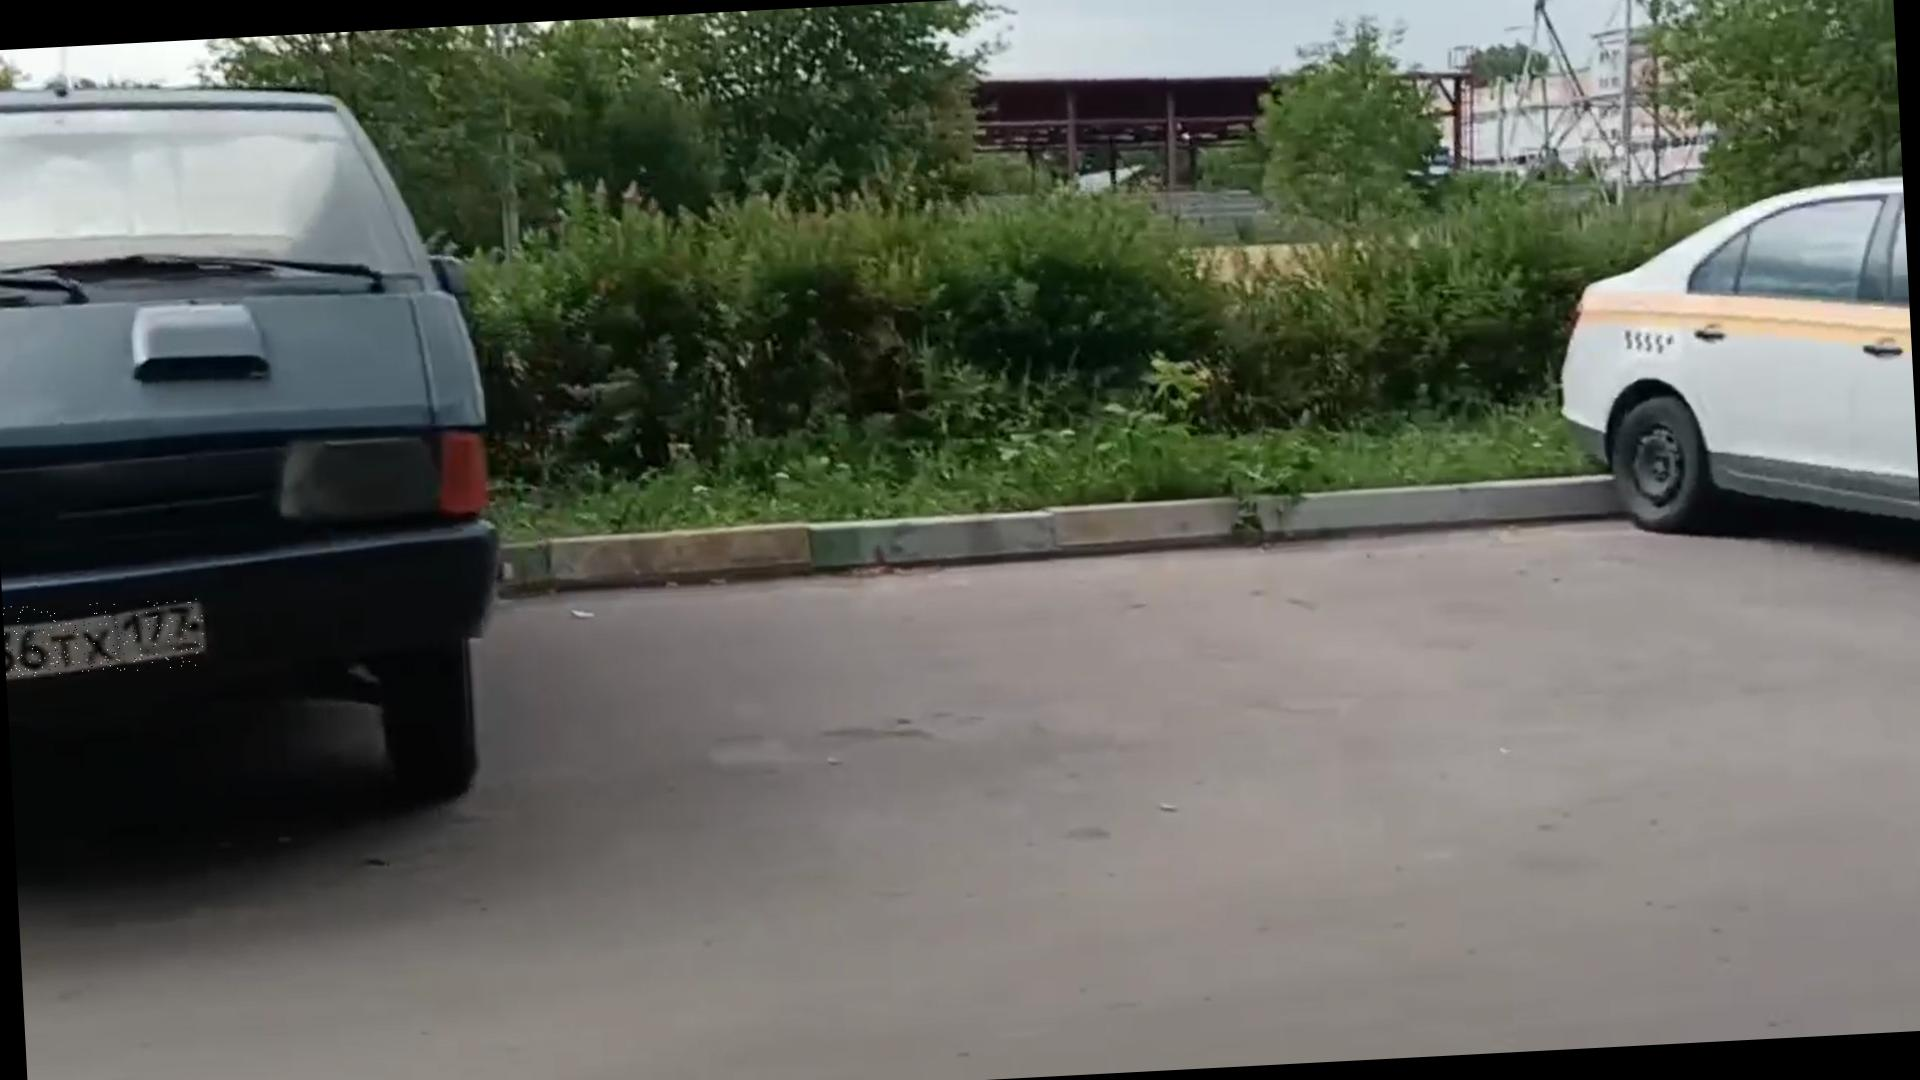plate: (3, 597, 208, 680)
